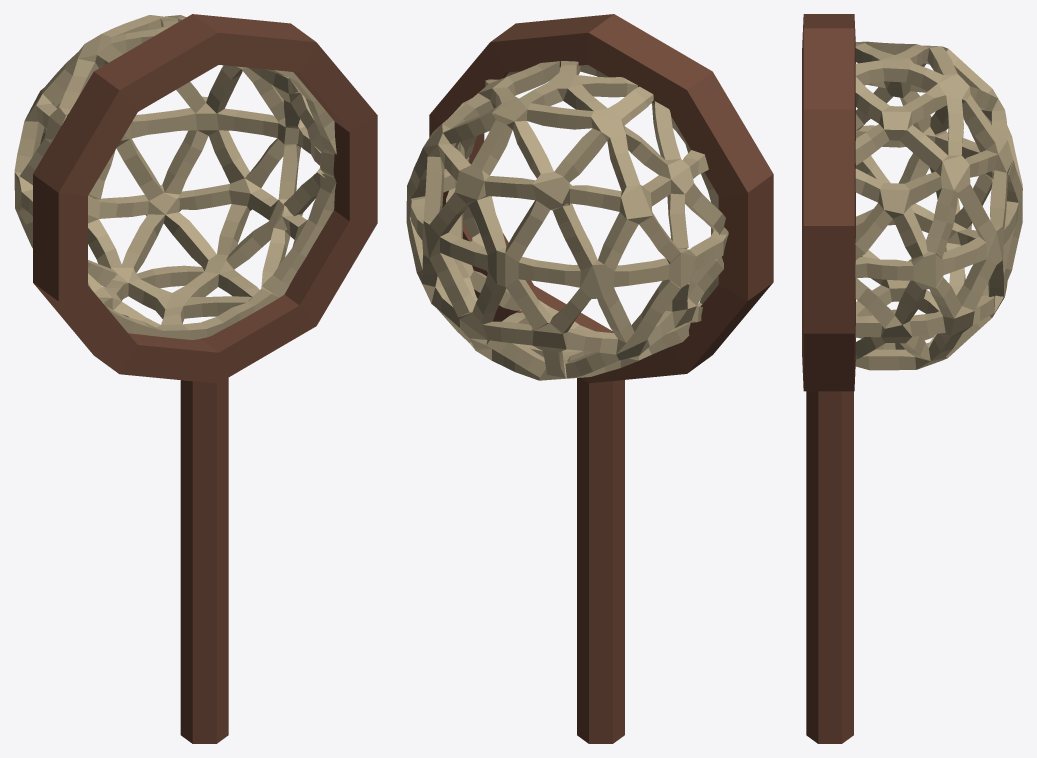
Rendered from NetTool.fbx.
3 views of the same model, side by side, from view 1: azimuth 30°, elevation 25°; view 2: azimuth 150°, elevation 25°; view 3: azimuth 270°, elevation 25° (orthographic).
Parts seen in each view (by area): view 1: NetTool; view 2: NetTool; view 3: NetTool.
Boxes of the visible parts, x1,y1,x2,y2 form: NetTool: (14, 14, 377, 743); NetTool: (406, 14, 773, 743); NetTool: (802, 14, 1022, 743).
Bounding box in the file's own units: 136 × 290 × 82.02.
